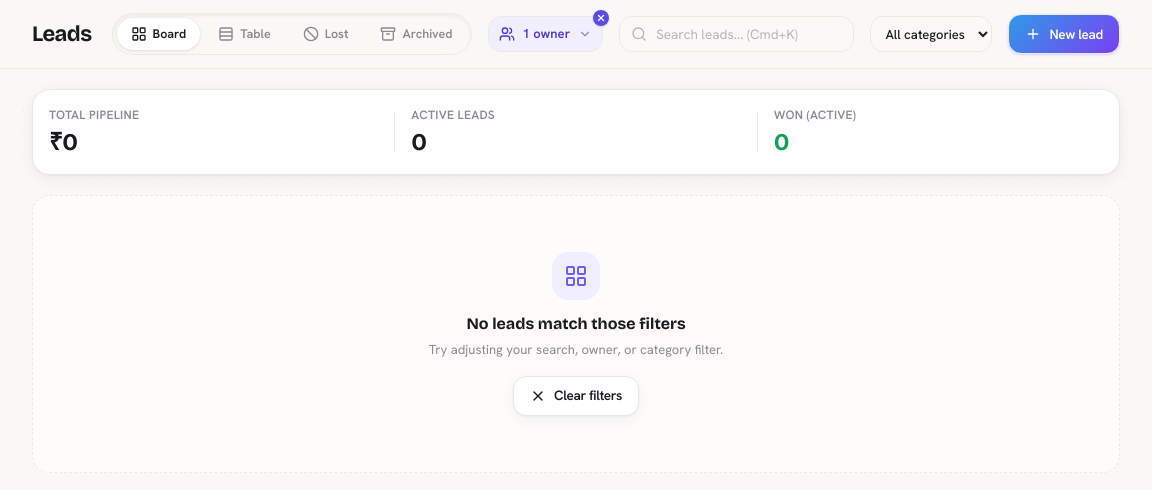
Test: Leads page — filter applies across views › shows a Clear filters action in the archived empty state when a filter hides everything
This screenshot has width=1152, height=490.
Click the button "Archived" at (417, 34), box [366,18,467,50]
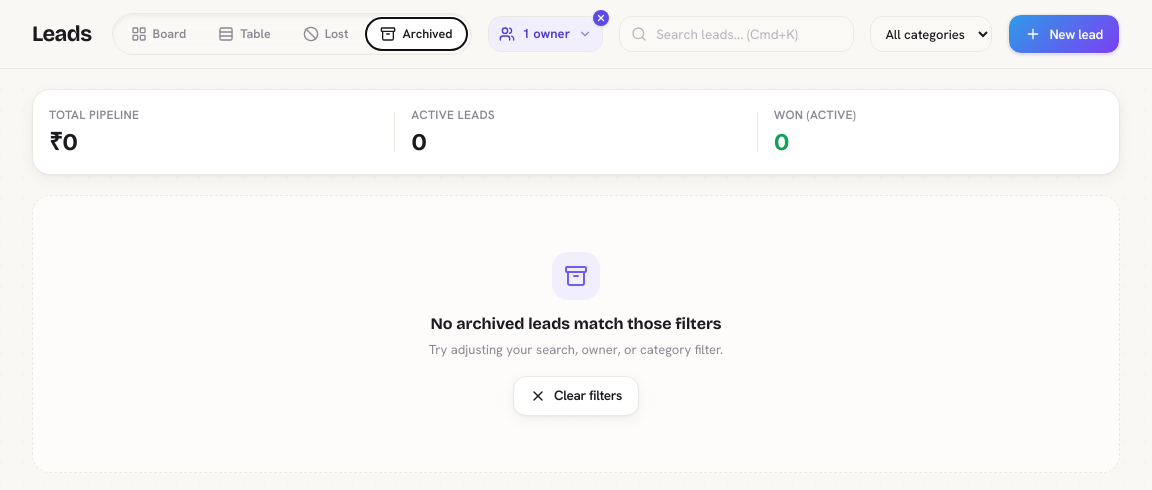
Expected: the button "Clear filters" is shown, [513,376,639,416]
Expected: the heading "No archived leads match those filters" is shown, [430,312,722,336]
